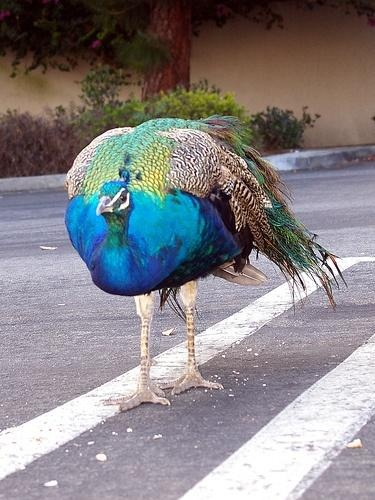bird: (62, 114, 352, 414)
